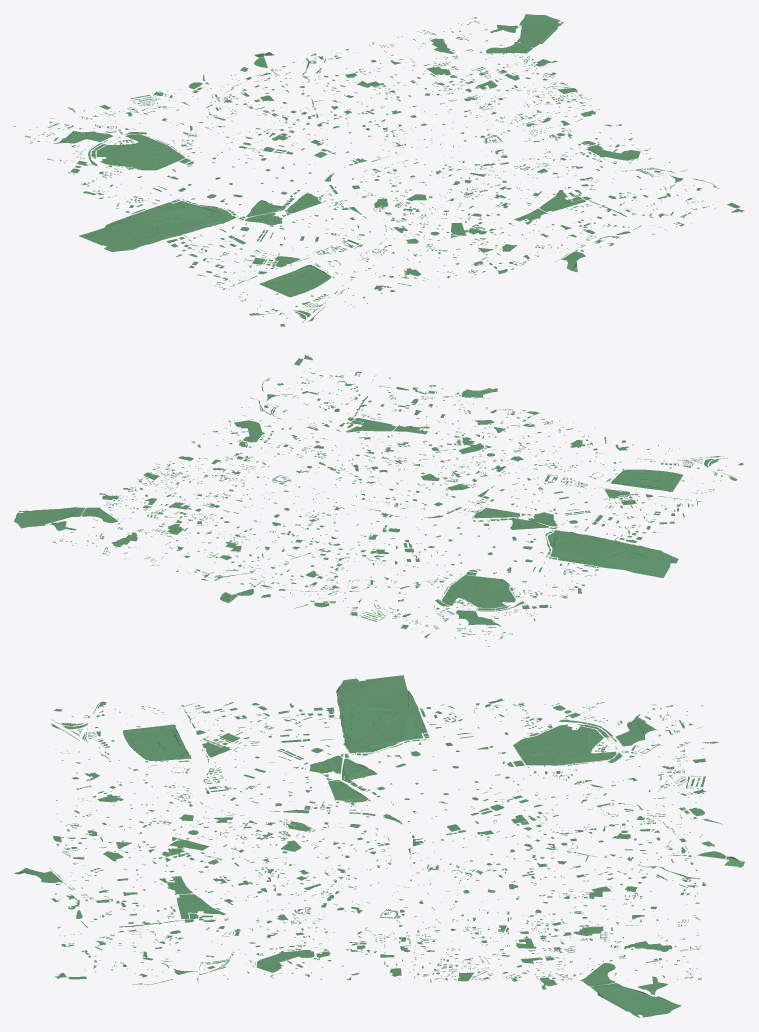
Rendered from green.glb.
The picture shows the model from 3 angles, top to bottom: view 1: azimuth 30°, elevation 25°; view 2: azimuth 150°, elevation 25°; view 3: azimuth 270°, elevation 25°; orthographic projection. The views are drawn at different scales.
Parts seen in each view (by area): view 1: green; view 2: green; view 3: green.
Part boxes in pixels (bbox=[...]): green: bbox=[14, 14, 744, 326]; green: bbox=[14, 355, 743, 646]; green: bbox=[14, 675, 744, 1017].
Size of the model in its own units: 11274 by 72.94 by 10165.
